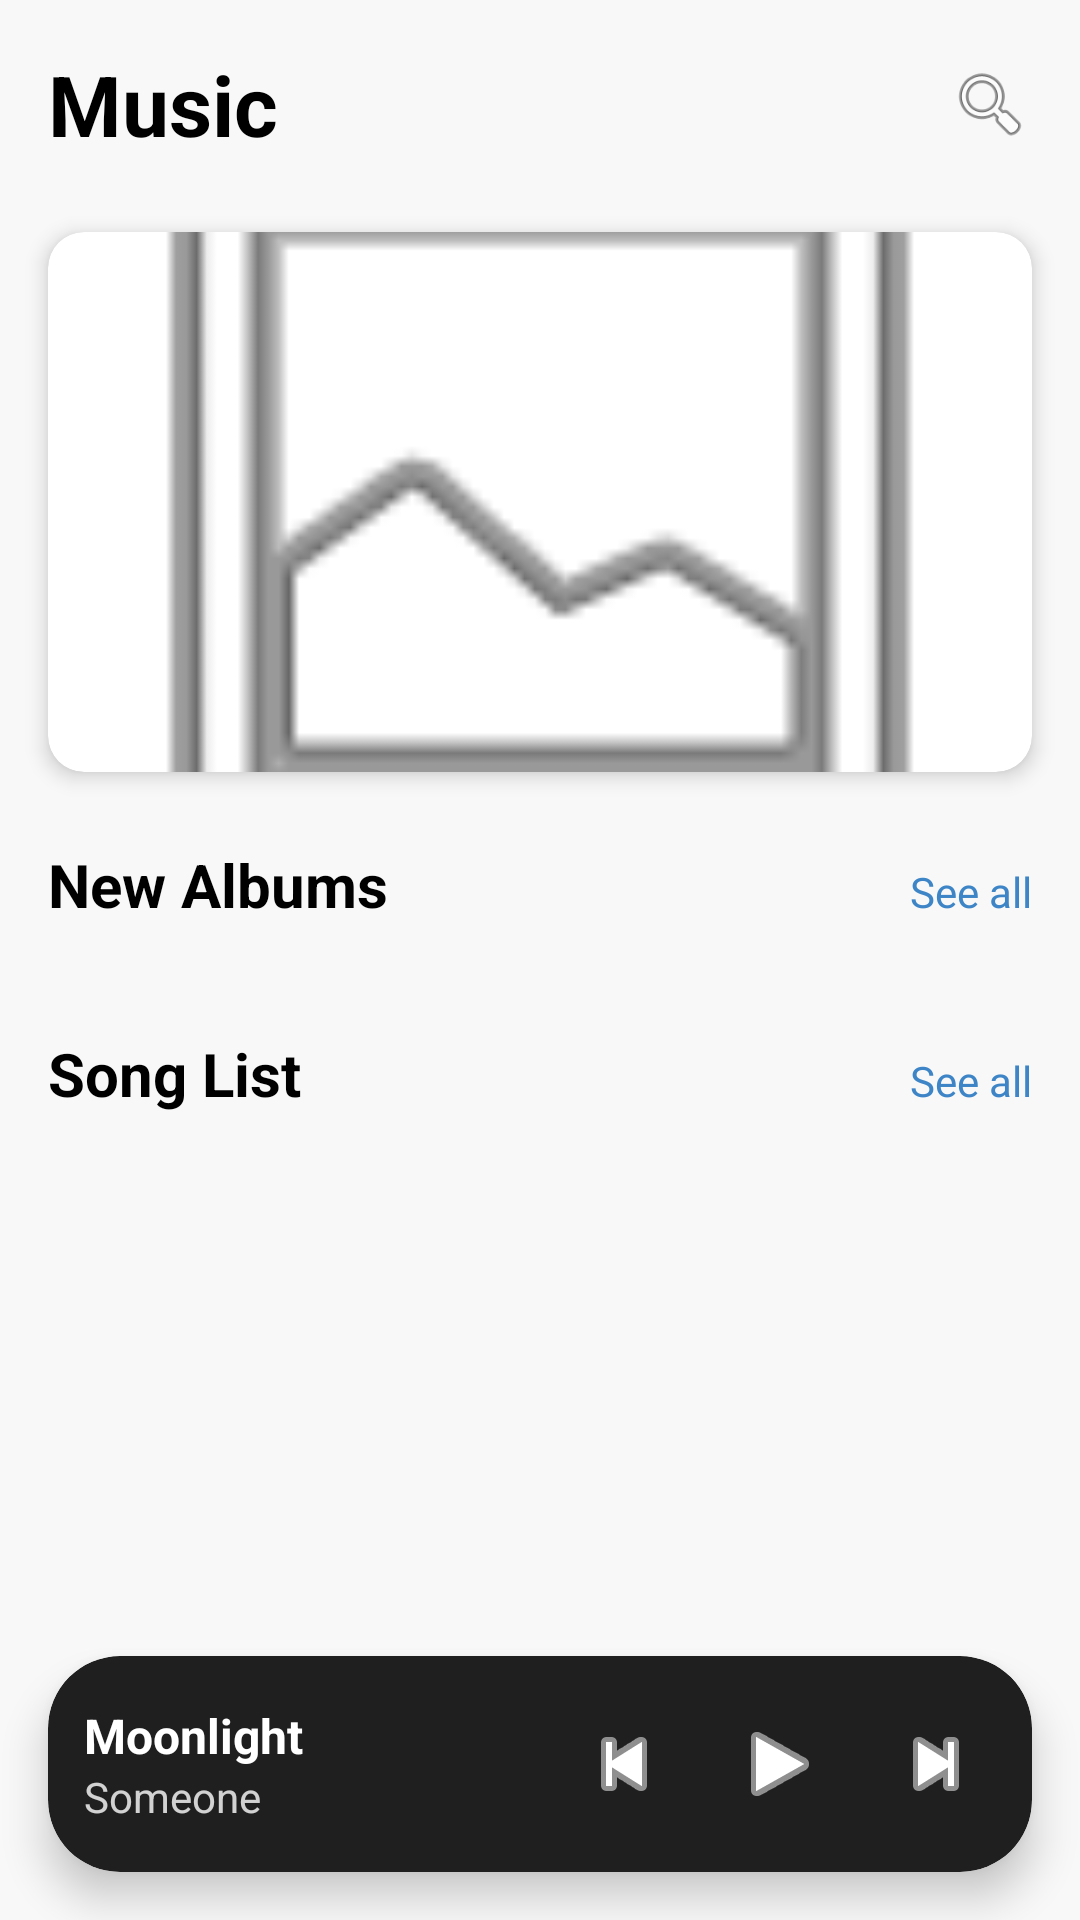

Icons on this 1080px x 1920px Android screen, each with its box as box=[x1, y1, x2, y2]:
next: box=[913, 1737, 959, 1791]
play: box=[751, 1732, 809, 1796]
previous: box=[601, 1737, 647, 1791]
search: box=[959, 73, 1021, 136]
